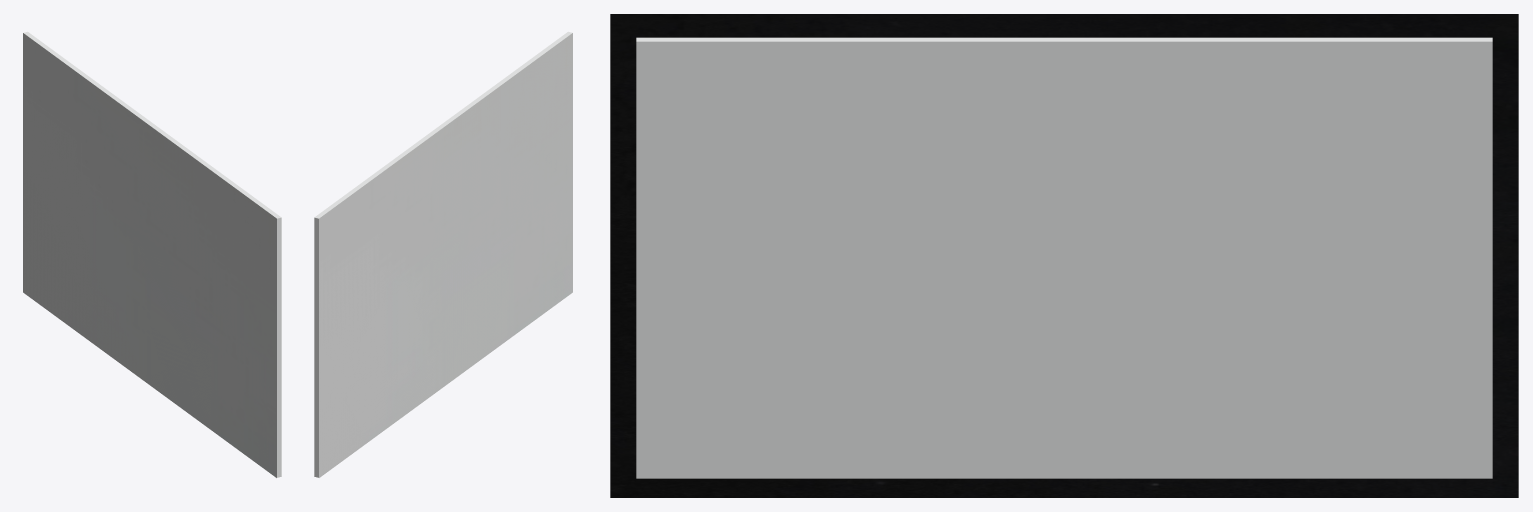
File: leinwand_150.glb
The picture shows the model from 3 angles, left to right: view 1: azimuth 30°, elevation 25°; view 2: azimuth 150°, elevation 25°; view 3: azimuth 270°, elevation 25°; orthographic projection. The views are drawn at different scales.
Visible parts, largest first — view 1: Plane; view 2: Plane; view 3: Plane, Plane.001.
Boxes of the visible parts, x1=… form: Plane: x1=23, y1=31, x2=281, y2=477; Plane: x1=314, y1=31, x2=572, y2=477; Plane: x1=636, y1=37, x2=1492, y2=478; Plane.001: x1=610, y1=14, x2=1518, y2=497.
Bounding box in the file's own units: 0.0877 × 4.14 × 7.04.
2 materials, 2 textured.
